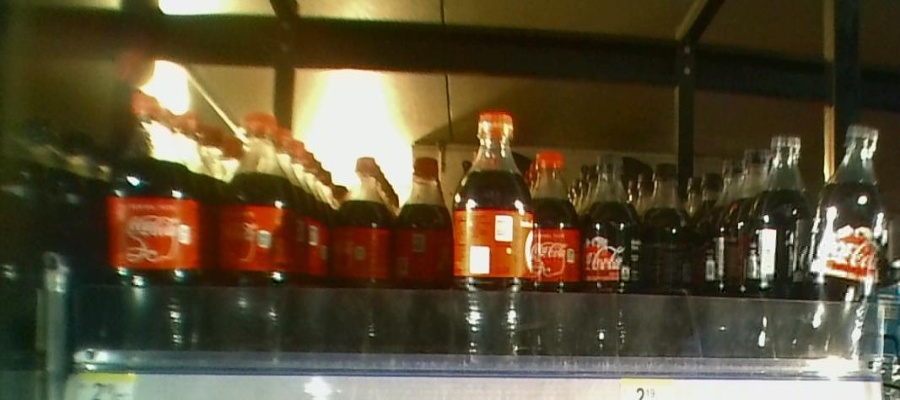bottle: (107, 89, 202, 358), (218, 104, 293, 360), (811, 118, 888, 363), (456, 113, 533, 357), (584, 144, 642, 364), (396, 144, 453, 354), (338, 144, 392, 354), (534, 139, 583, 362), (643, 148, 692, 356)
